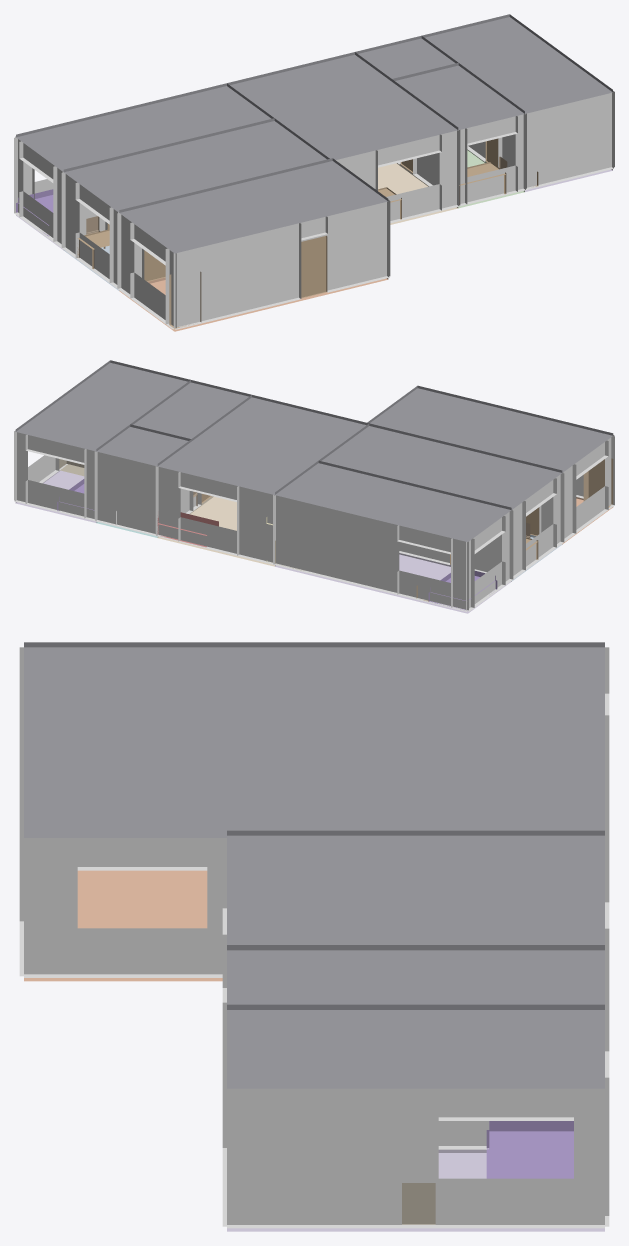
Rendered from house-modern.gltf.
3 renders of one model, top to bottom at view 1: azimuth 30°, elevation 25°; view 2: azimuth 150°, elevation 25°; view 3: azimuth 270°, elevation 25°, orthographic. The views are drawn at different scales.
Bounding box in the file's own units: 18.65 × 2.9 × 10.45.
